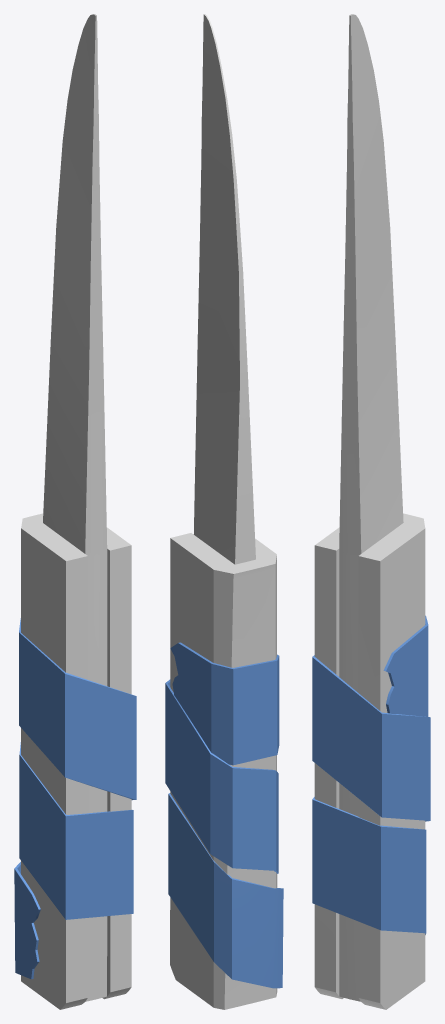
File: Knife.fbx
3 views of the same model, side by side, from view 1: azimuth 30°, elevation 25°; view 2: azimuth 210°, elevation 25°; view 3: azimuth 330°, elevation 25° (orthographic). The views are drawn at different scales.
Parts seen in each view (by area): view 1: Lever+Iron_low, Lenta_low; view 2: Lever+Iron_low, Lenta_low; view 3: Lever+Iron_low, Lenta_low.
Part boxes in pixels (<box>): Lever+Iron_low: <box>21,14,131,1009</box>; Lenta_low: <box>14,618,136,979</box>; Lever+Iron_low: <box>170,14,277,1009</box>; Lenta_low: <box>165,642,283,988</box>; Lever+Iron_low: <box>314,14,425,1009</box>; Lenta_low: <box>312,615,430,934</box>.
Size of the model in its own units: 57.5 by 752 by 79.85.
